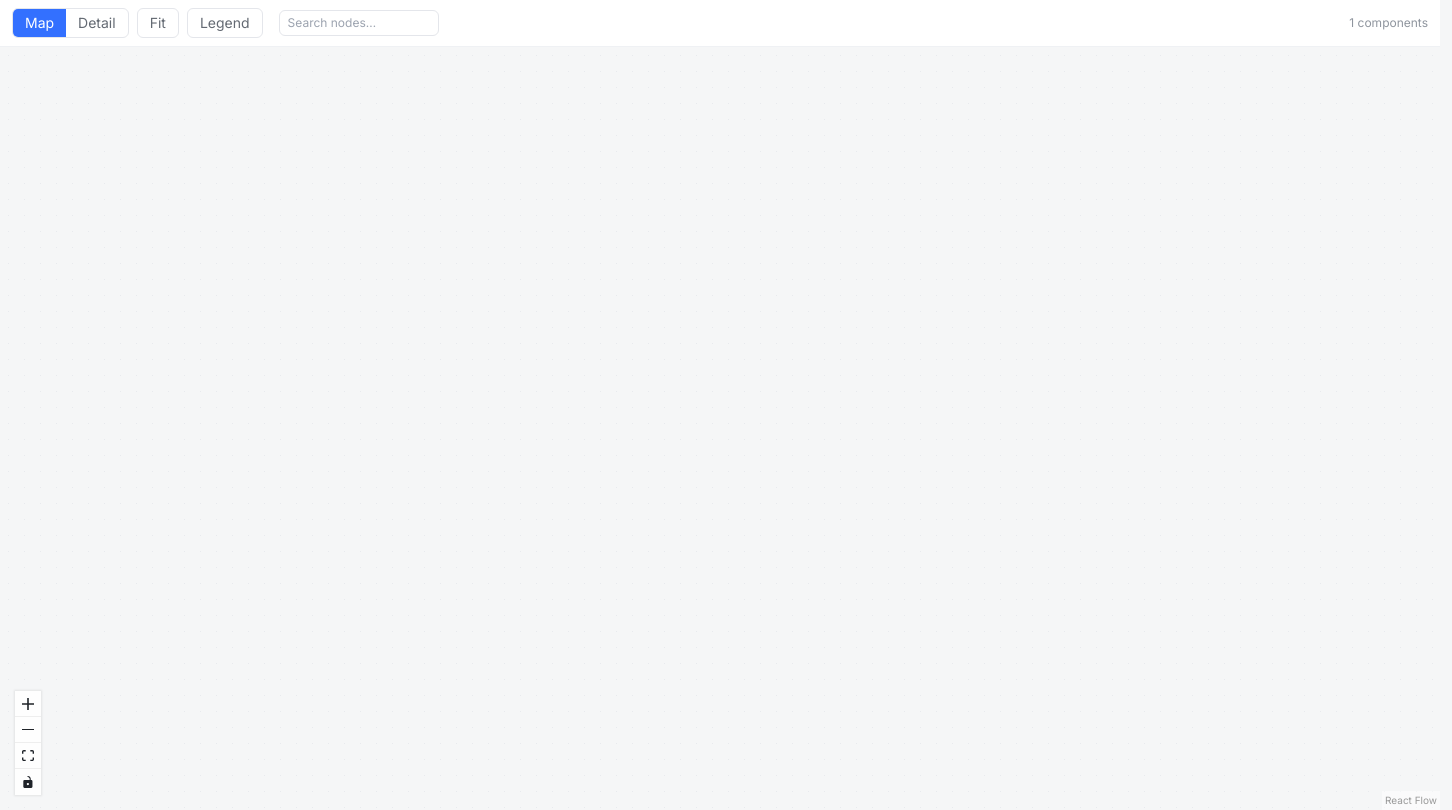
FlowCanvas node search › typing a query rings matching nodes + expands the owner + shows a count
Type "askname" into the field with test id "node-search" at (359, 23), box [279,10,439,36]
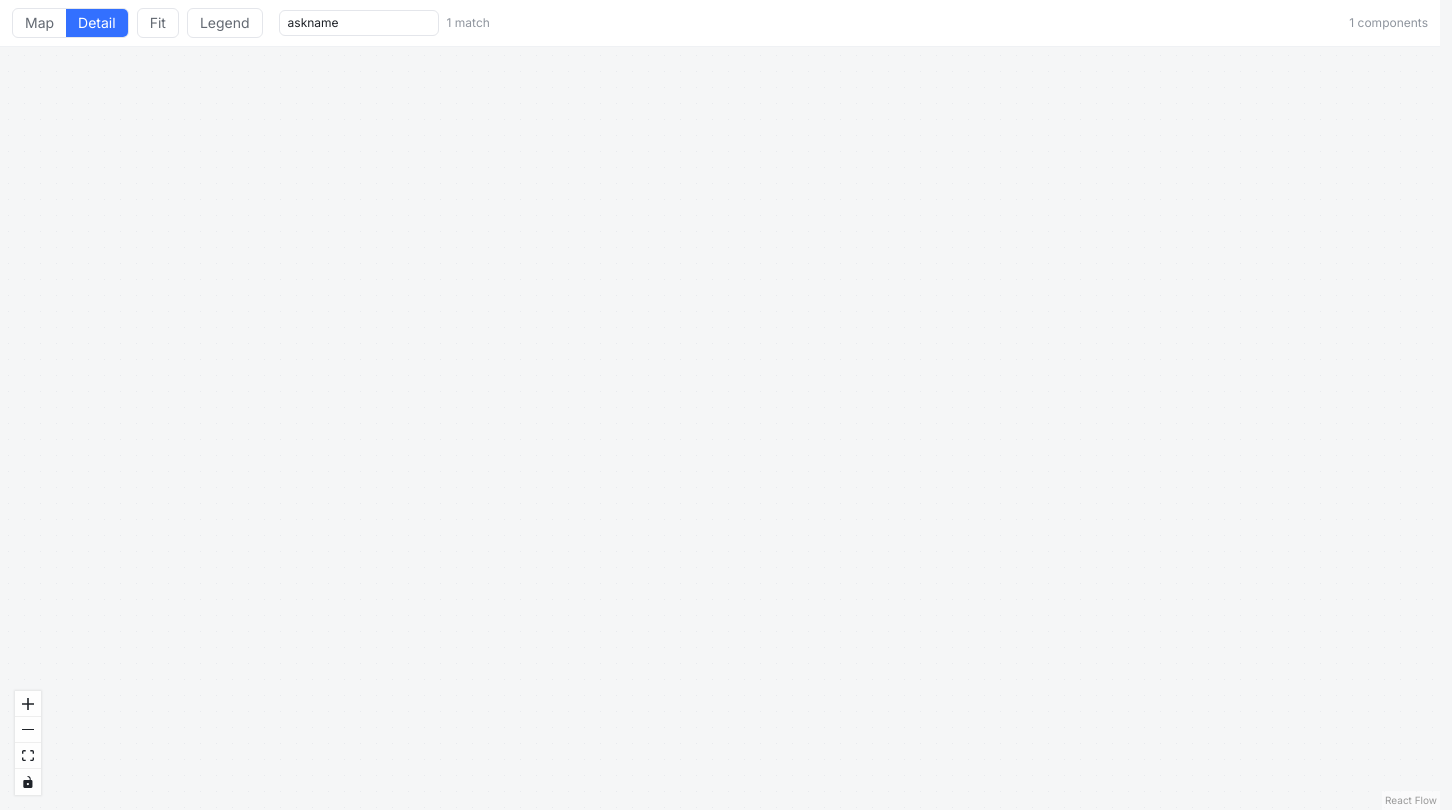
Check: the text with test id "search-count" shows "1", box [447,15,452,30]
